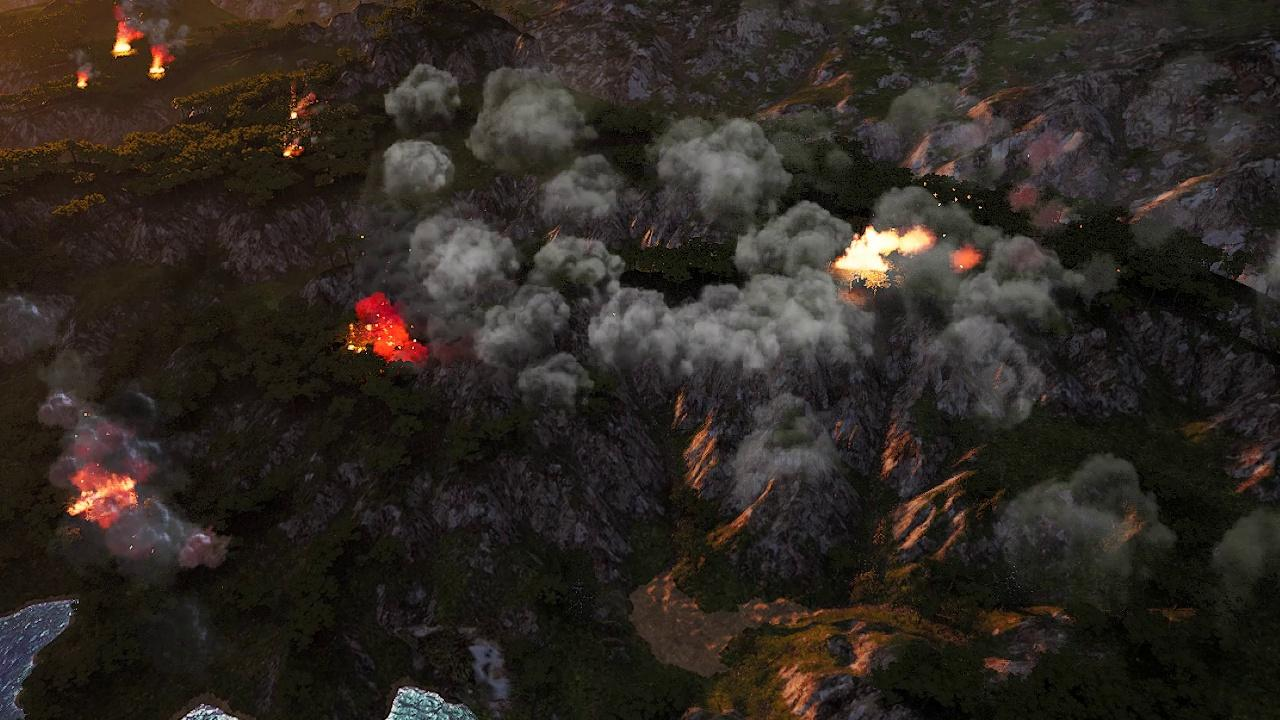fire: (346, 295, 424, 366), (838, 226, 936, 279), (67, 467, 138, 529), (289, 92, 317, 119), (149, 49, 170, 79), (116, 39, 136, 55), (283, 143, 301, 158), (72, 74, 85, 90)
smoke: (367, 63, 887, 408), (29, 354, 222, 666), (993, 449, 1277, 592), (934, 225, 1115, 429), (111, 0, 187, 54), (953, 247, 983, 274)
